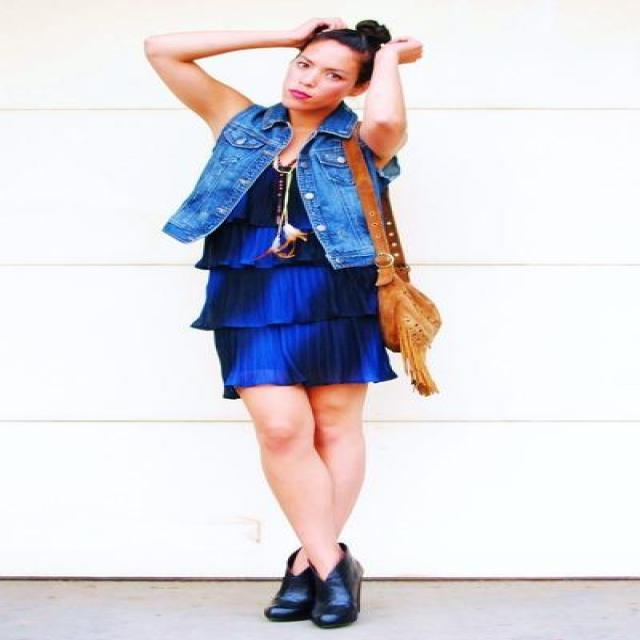bag: (342, 122, 440, 396)
dress: (190, 159, 398, 396)
jacket: (162, 102, 398, 268)
shoe: (264, 550, 402, 628)
